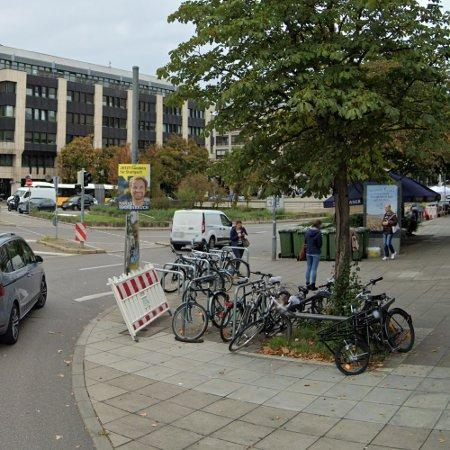bicycles: (337, 294, 415, 376), (172, 276, 229, 342)
